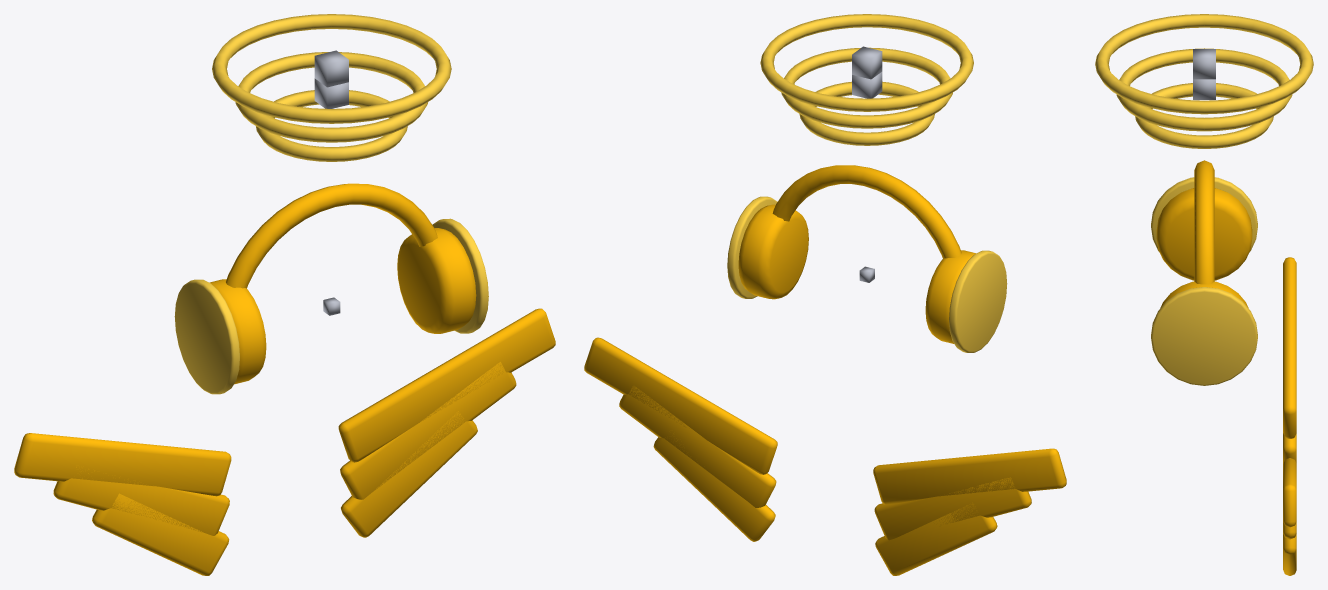
The model's file is Transcendent.fbx.
The picture shows the model from 3 angles, left to right: view 1: azimuth 30°, elevation 25°; view 2: azimuth 150°, elevation 25°; view 3: azimuth 270°, elevation 25°; orthographic projection. The views are drawn at different scales.
Parts seen in each view (by area): view 1: Goldn, Flap_Wing1_0, Flap_Wing-1_0, Spin_Float_Halo2, Flap_Wing1_1, Pulse_Ring-1, Spin_Float_Halo1, Flap_Wing-1_2, Flap_Wing-1_1, Flap_Wing1_2, Spin_Float_Halo0, Pulse_Ring1 (+2 smaller); view 2: Goldn, Flap_Wing1_0, Flap_Wing-1_0, Spin_Float_Halo2, Flap_Wing1_1, Pulse_Ring-1, Flap_Wing-1_1, Spin_Float_Halo1, Flap_Wing-1_2, Flap_Wing1_2, Spin_Float_Halo0, Pulse_Ring1 (+2 smaller); view 3: Pulse_Ring1, Goldn, Spin_Float_Halo2, Spin_Float_Halo1, Spin_Float_Halo0, Flap_Wing-1_0, Pulse_Ring-1, Flap_Wing1_0, FXPoint_Beams, Flap_Wing1_2, FXPoint_GoldSparkle, Flap_Wing-1_1.
Part boxes in pixels (x1,y1,x2,y2): Goldn: [209, 183, 476, 384]; Flap_Wing1_0: [338, 308, 555, 462]; Flap_Wing-1_0: [14, 433, 231, 496]; Spin_Float_Halo2: [212, 14, 451, 123]; Flap_Wing1_1: [340, 362, 516, 499]; Pulse_Ring-1: [174, 279, 239, 394]; Spin_Float_Halo1: [235, 52, 427, 142]; Flap_Wing-1_2: [92, 493, 229, 575]; Flap_Wing-1_1: [53, 467, 229, 535]; Flap_Wing1_2: [341, 411, 477, 537]; Spin_Float_Halo0: [256, 90, 407, 161]; Pulse_Ring1: [432, 218, 488, 333]; Goldn: [738, 165, 975, 343]; Flap_Wing1_0: [584, 337, 777, 474]; Flap_Wing-1_0: [873, 448, 1066, 504]; Spin_Float_Halo2: [760, 14, 973, 111]; Flap_Wing1_1: [619, 386, 776, 507]; Pulse_Ring-1: [949, 250, 1007, 352]; Flap_Wing-1_1: [874, 477, 1031, 540]; Spin_Float_Halo1: [781, 47, 952, 128]; Flap_Wing-1_2: [875, 502, 997, 575]; Flap_Wing1_2: [653, 433, 775, 541]; Spin_Float_Halo0: [799, 81, 934, 145]; Pulse_Ring1: [727, 196, 777, 298]; Pulse_Ring1: [1151, 287, 1257, 385]; Goldn: [1156, 160, 1252, 307]; Spin_Float_Halo2: [1095, 14, 1313, 114]; Spin_Float_Halo1: [1116, 48, 1292, 131]; Spin_Float_Halo0: [1135, 83, 1273, 148]; Flap_Wing-1_0: [1283, 257, 1296, 438]; Pulse_Ring-1: [1151, 177, 1257, 252]; Flap_Wing1_0: [1283, 458, 1296, 527]; FXPoint_Beams: [1193, 49, 1215, 79]; Flap_Wing1_2: [1283, 533, 1296, 575]; FXPoint_GoldSparkle: [1193, 79, 1215, 99]; Flap_Wing-1_1: [1283, 433, 1296, 463].
Size of the model in its own units: 4.99 by 4.71 by 1.92.
